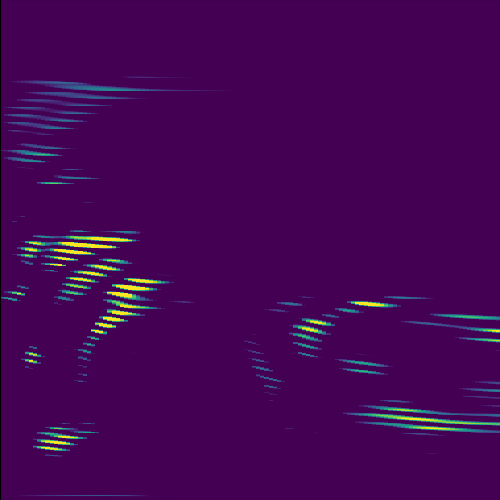semblance: (44, 234, 138, 268), (105, 277, 169, 310), (60, 257, 133, 285)
